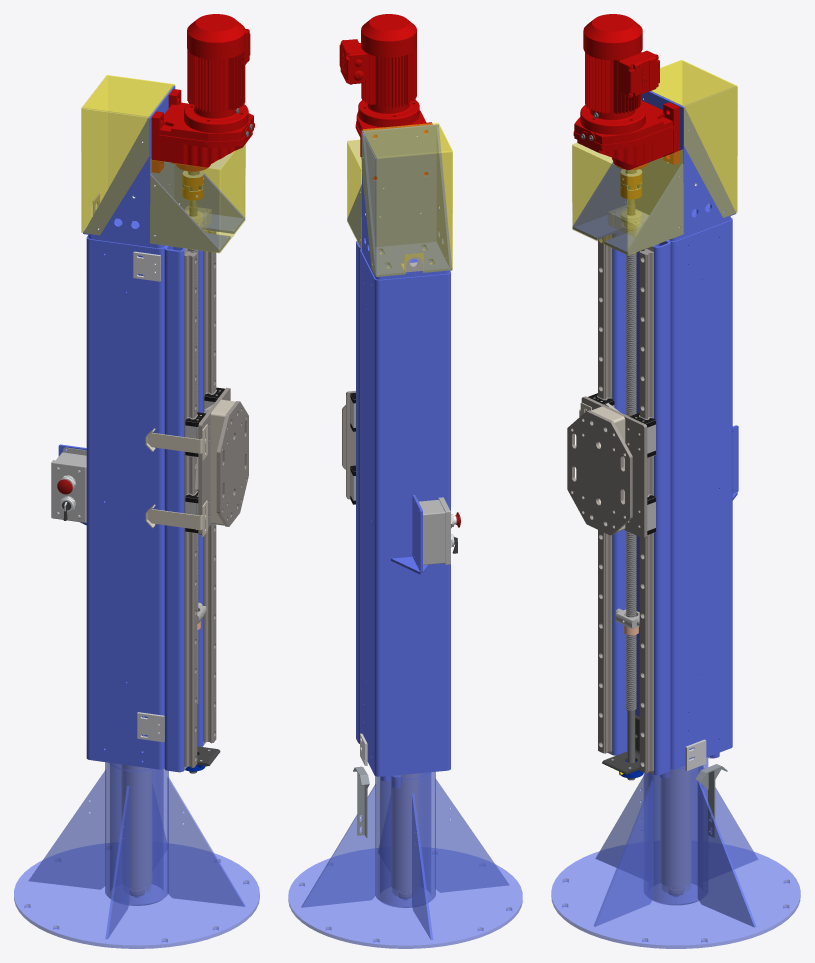
The model's file is CSL.glb.
3 views of the same model, side by side, from view 1: azimuth 30°, elevation 25°; view 2: azimuth 150°, elevation 25°; view 3: azimuth 270°, elevation 25° (orthographic). The views are drawn at different scales.
Visible parts, largest first — view 1: CSL-003-2, CSL-001-1, MOTR-031-1, CSL-006-1, CSL-010-1, CSL-011-1, BRNG-112-2, BRNG-112-1, CSL-004-B-2, MISC-314-1, CSL-004-C-2, CSL-004-A-2 (+5 smaller); view 2: CSL-003-2, CSL-001-1, CSL-010-1, CSL-006-1, MOTR-031-1, MISC-314-1, CSL-011-1, CSL-008-1, CSL-004-A-2; view 3: CSL-003-2, CSL-001-1, MOTR-031-1, CSL-006-1, CSL-011-1, CSL-010-1, CSL-004-B-2, BRNG-112-1, BRNG-112-2, CSL-020-1, CSL-004-A-2, CSL-008-1 (+3 smaller).
Boxes of the visible parts, x1,y1,x2,y2 form: CSL-003-2: (58,234,205,887); CSL-001-1: (14,762,259,948); MOTR-031-1: (151,14,254,175); CSL-006-1: (83,85,244,252); CSL-010-1: (81,75,175,235); CSL-011-1: (150,144,245,253); BRNG-112-2: (184,251,197,767); BRNG-112-1: (203,230,216,743); CSL-004-B-2: (216,401,248,526); MISC-314-1: (51,447,86,522); CSL-004-C-2: (210,399,235,525); CSL-004-A-2: (198,387,230,534); CSL-003-2: (356,241,450,890); CSL-001-1: (288,772,522,948); CSL-010-1: (361,122,452,276); CSL-006-1: (347,124,452,277); MOTR-031-1: (339,14,432,179); MISC-314-1: (418,497,450,565); CSL-011-1: (347,139,361,249); CSL-008-1: (353,766,369,837); CSL-004-A-2: (346,390,355,499); CSL-003-2: (606,216,738,887); CSL-001-1: (551,757,800,948); MOTR-031-1: (573,14,679,173); CSL-006-1: (572,91,736,254); CSL-011-1: (572,142,683,255); CSL-010-1: (651,60,737,217); CSL-004-B-2: (567,410,632,535); BRNG-112-1: (639,249,653,772); BRNG-112-2: (598,234,612,753); CSL-020-1: (626,199,636,780); CSL-004-A-2: (581,396,647,538); CSL-008-1: (696,764,727,837).
Bounding box in the file's own units: 0.6091 × 2.42 × 0.6093.
